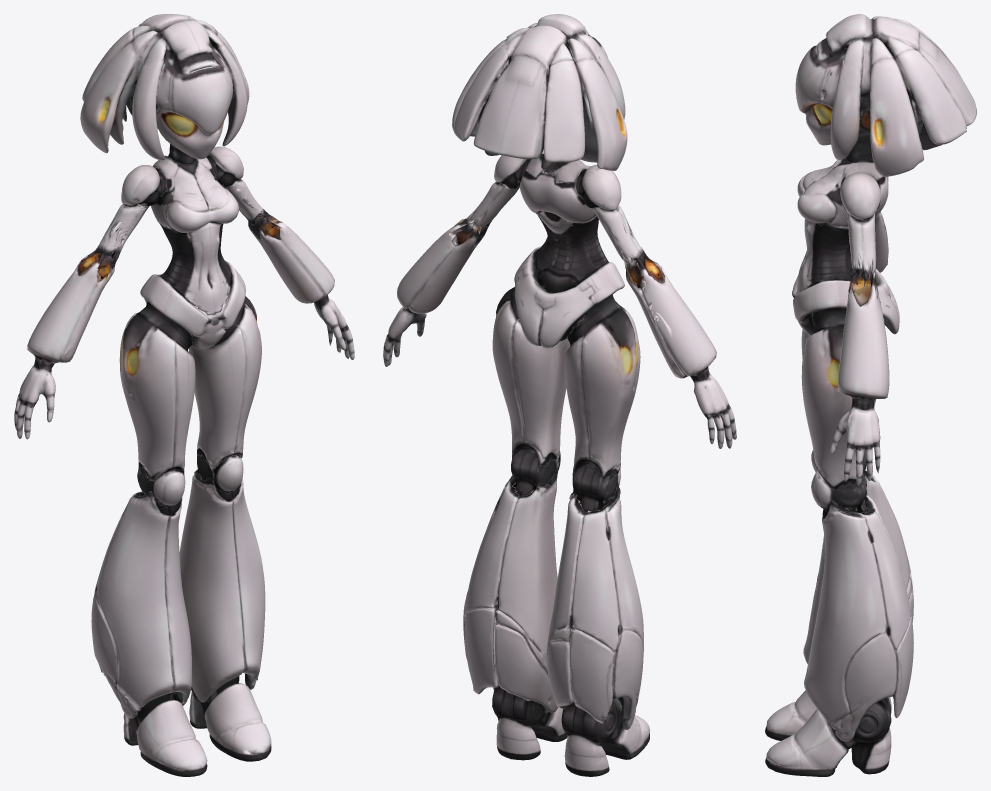
File: leila.glb
3 views of the same model, side by side, from view 1: azimuth 30°, elevation 25°; view 2: azimuth 150°, elevation 25°; view 3: azimuth 270°, elevation 25° (orthographic). The views are drawn at different scales.
Parts seen in each view (by area): view 1: tripo_part_1, tripo_part_0, tripo_part_14, tripo_part_16, tripo_part_3, tripo_part_11, tripo_part_2, tripo_part_9, tripo_part_15, tripo_part_7, tripo_part_5, tripo_part_18 (+8 smaller); view 2: tripo_part_1, tripo_part_0, tripo_part_14, tripo_part_16, tripo_part_3, tripo_part_5, tripo_part_7, tripo_part_2, tripo_part_9, tripo_part_18, tripo_part_15, tripo_part_11 (+8 smaller); view 3: tripo_part_1, tripo_part_14, tripo_part_3, tripo_part_15, tripo_part_18, tripo_part_11, tripo_part_9, tripo_part_5, tripo_part_17, tripo_part_0, tripo_part_19, tripo_part_21 (+5 smaller).
Part boxes in pixels (x1,y1,x2,y2): tripo_part_1: [80, 14, 249, 160]; tripo_part_0: [91, 491, 191, 718]; tripo_part_14: [179, 471, 265, 702]; tripo_part_16: [119, 302, 195, 480]; tripo_part_3: [189, 296, 261, 468]; tripo_part_11: [151, 155, 238, 232]; tripo_part_2: [123, 692, 207, 776]; tripo_part_9: [158, 222, 232, 315]; tripo_part_15: [189, 676, 271, 761]; tripo_part_7: [27, 247, 115, 363]; tripo_part_5: [140, 260, 245, 349]; tripo_part_18: [248, 215, 334, 303]; tripo_part_1: [452, 14, 627, 170]; tripo_part_0: [546, 485, 643, 729]; tripo_part_14: [463, 470, 558, 712]; tripo_part_16: [564, 294, 640, 479]; tripo_part_3: [492, 287, 570, 465]; tripo_part_5: [514, 246, 624, 348]; tripo_part_7: [626, 254, 716, 378]; tripo_part_2: [561, 698, 649, 776]; tripo_part_9: [534, 211, 608, 293]; tripo_part_18: [397, 224, 483, 313]; tripo_part_15: [492, 686, 566, 760]; tripo_part_11: [519, 153, 596, 223]; tripo_part_1: [795, 14, 976, 176]; tripo_part_14: [804, 494, 913, 741]; tripo_part_3: [801, 308, 876, 490]; tripo_part_15: [765, 697, 891, 776]; tripo_part_18: [838, 278, 889, 400]; tripo_part_11: [797, 158, 888, 227]; tripo_part_9: [796, 218, 851, 295]; tripo_part_5: [792, 269, 899, 335]; tripo_part_17: [830, 397, 880, 485]; tripo_part_0: [803, 470, 913, 664]; tripo_part_19: [847, 212, 876, 286]; tripo_part_21: [840, 172, 880, 219].
Size of the model in its own units: 0.4778 by 0.9792 by 0.2568.
Materials: 1 (1 with a texture image).
